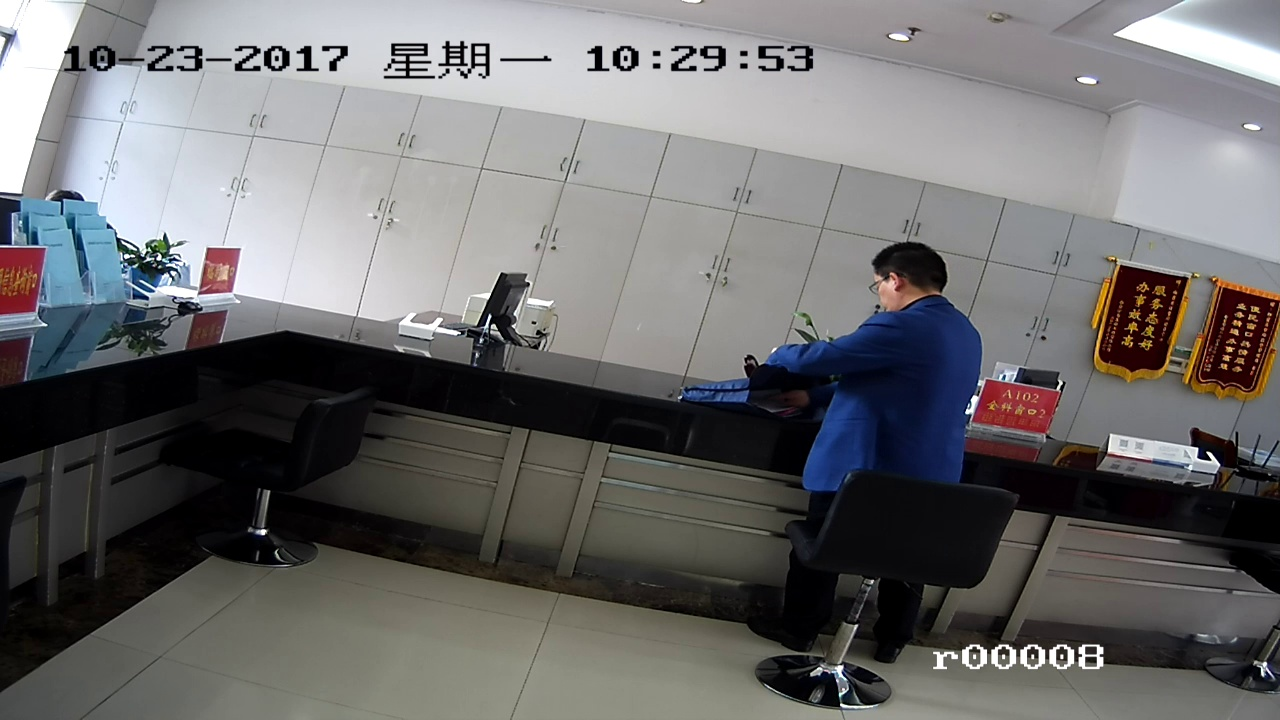billboard: (1102, 254, 1180, 397), (1202, 274, 1270, 411), (203, 249, 240, 308)
chair: (771, 484, 1027, 713), (174, 393, 375, 579)
monitor: (476, 261, 534, 360)
person: (774, 241, 985, 468)
pot: (132, 230, 184, 302)
